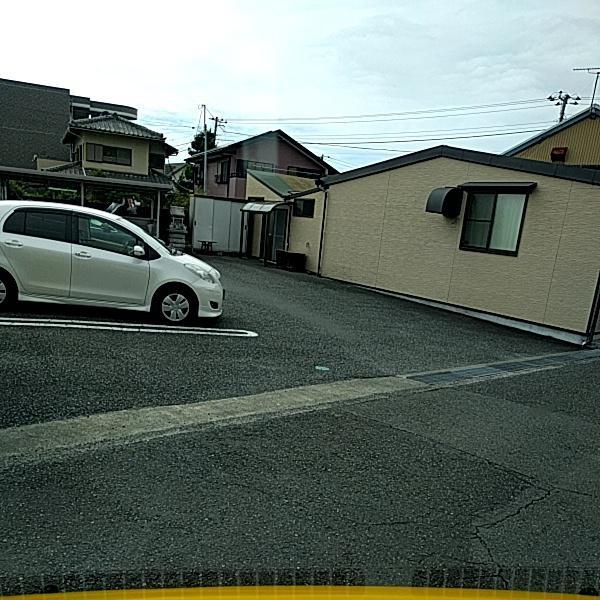D10: (227, 479, 307, 514), (346, 516, 418, 530)
D20: (394, 469, 555, 590)
